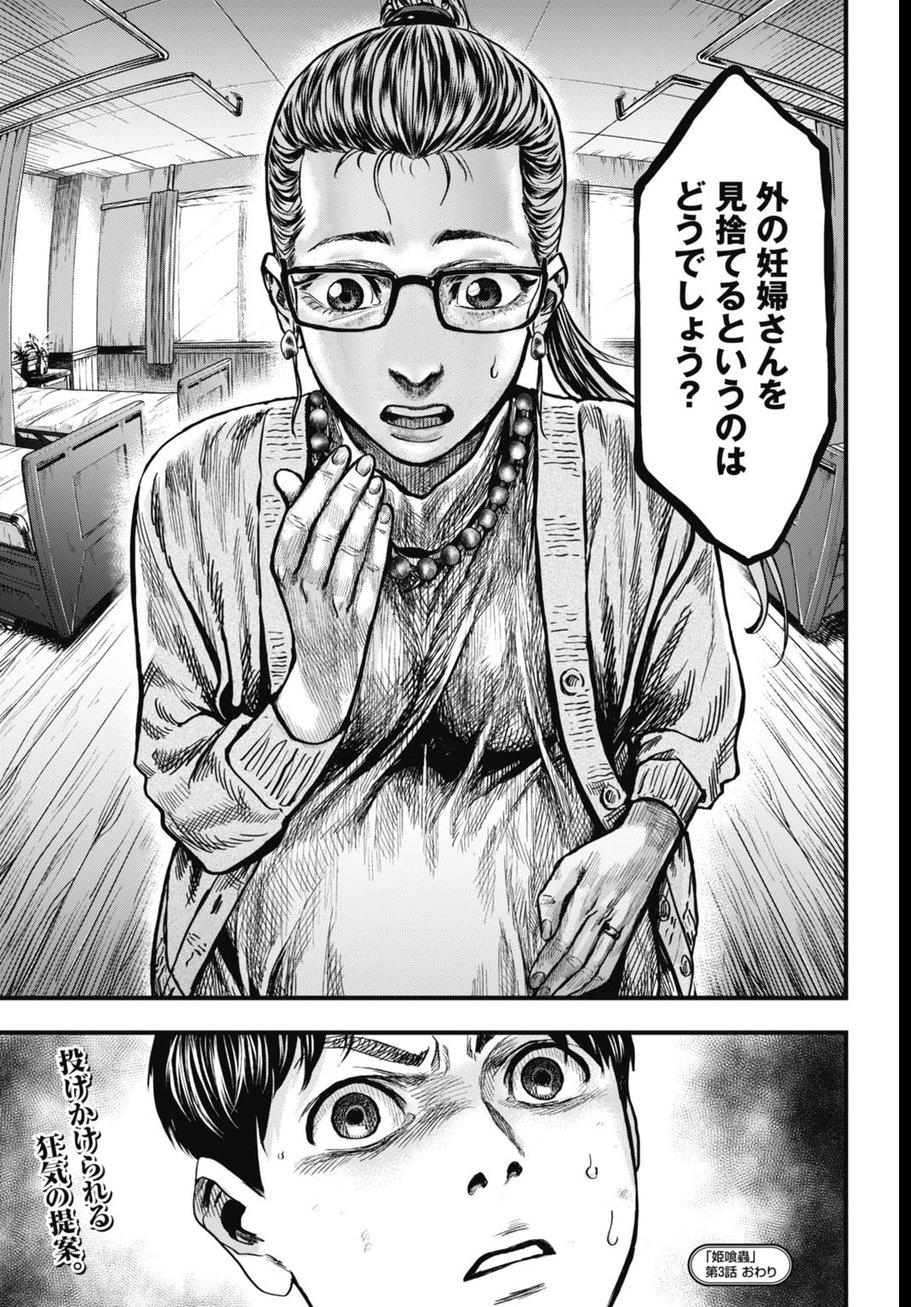bubbles: (616, 60, 844, 568)
